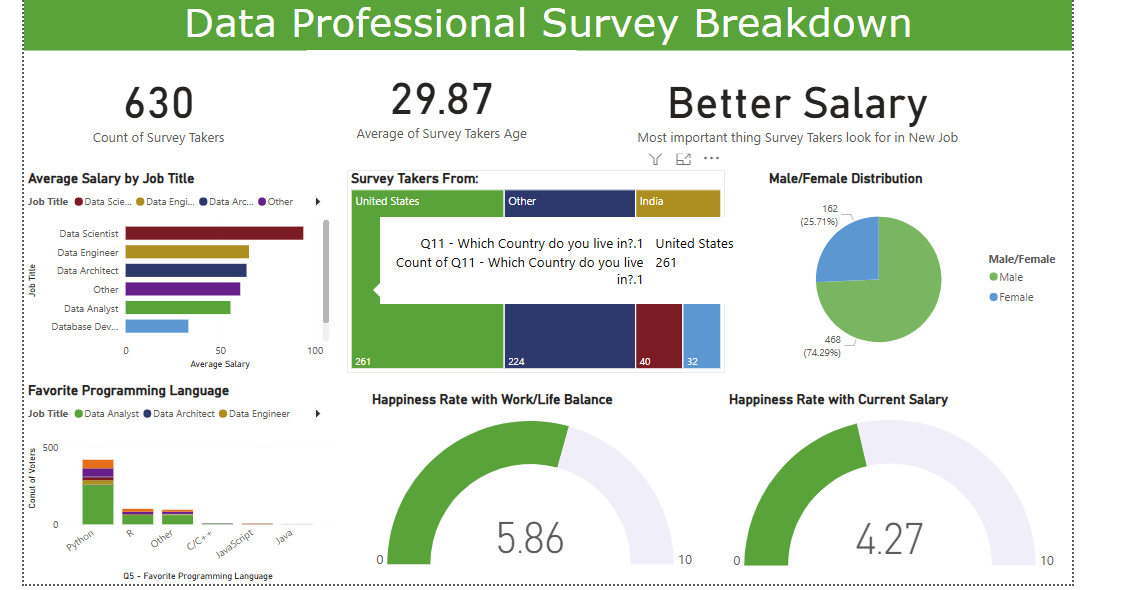

The page's visual inventory and layout, read from the dashboard file:
{"tool":"powerbi","page":{"name":"Survey Result Analysis","canvas":[1280,720],"ordinal":0},"visuals":[{"type":"textbox","box":[0,0,1280,69],"z":0},{"type":"card","fields":{"Values":["Count(Data Professional Survey.Unique ID)"]},"box":[0,72.7,328.6,126],"z":1000},{"type":"card","fields":{"Values":["Avg(Data Professional Survey.Q10 - Current Age)"]},"box":[345.5,68.8,328.6,126],"z":2000},{"type":"barChart","title":"Average Salary by Job Title","fields":{"Series":["Data Professional Survey.Q1 - Which Title Best Fits your Current Role?"],"Y":["Avg(Data Professional Survey.Average Salary)"],"Category":["Data Professional Survey.Q1 - Which Title Best Fits your Current Role?"]},"box":[0,214.9,377.6,247.8],"z":3000},{"type":"columnChart","title":"Favorite Programming Language","fields":{"Category":["Data Professional Survey.Q5 - Favorite Programming Language"],"Y":["CountNonNull(Data Professional Survey.Q5 - Favorite Programming Language)"],"Series":["Data Professional Survey.Q1 - Which Title Best Fits your Current Role?"]},"box":[0,473.1,377.6,247.8],"z":4000},{"type":"treemap","title":"Survey Takers From:","fields":{"Group":["Data Professional Survey.Q11 - Which Country do you live in?.1"],"Values":["CountNonNull(Data Professional Survey.Q11 - Which Country do you live in?.1)"]},"box":[394,214.9,461.2,247.8],"z":5000},{"type":"gauge","title":"Happiness Rate with Work/Life Balance","fields":{"Y":["Avg(Data Professional Survey.Q6 - How Happy are you in your Current Position with the following? (Coworkers))"],"MinValue":["Min(Data Professional Survey.Q6 - How Happy are you in your Current Position with the following? (Coworkers))1"],"MaxValue":["Max(Data Professional Survey.Q6 - How Happy are you in your Current Position with the following? (Coworkers))2"]},"box":[419.4,485.1,406,234.3],"z":6000},{"type":"pieChart","title":"Male/Female Distribution","fields":{"Y":["CountNonNull(Data Professional Survey.Q9 - Male/Female?)"],"Category":["Data Professional Survey.Q9 - Male/Female?"]},"box":[903.9,214.3,376.6,248.1],"z":7000},{"type":"gauge","title":"Happiness Rate with Current Salary","fields":{"Y":["Avg(Data Professional Survey.Q6 - How Happy are you in your Current Position with the following? (Salary))"],"MinValue":["Min(Data Professional Survey.Q6 - How Happy are you in your Current Position with the following? (Salary))"],"MaxValue":["Max(Data Professional Survey.Q6 - How Happy are you in your Current Position with the following? (Salary))"]},"box":[855.2,485.1,411.9,234.3],"z":8000},{"type":"card","fields":{"Values":["Min(Data Professional Survey.Q8 - If you were to look for a new job today, what would be the most important thing to you"]},"box":[711.7,76.6,466.2,118.2],"z":9000}]}

Visuals, with their boxes on the page's 1280x720 design canvas (x1, y1, x2, y2). These are canvas units, not pixel positions in the 1124x590 screenshot, which may show the page scaled, cropped or inside an application window:
textbox: 0, 0, 1280, 69
card - Count(Data Professional Survey.Unique ID): 0, 73, 329, 199
card - Avg(Data Professional Survey.Q10 - Current Age): 346, 69, 674, 195
"Average Salary by Job Title" barChart: 0, 215, 378, 463
"Favorite Programming Language" columnChart: 0, 473, 378, 721
"Survey Takers From:" treemap: 394, 215, 855, 463
"Happiness Rate with Work/Life Balance" gauge: 419, 485, 825, 719
"Male/Female Distribution" pieChart: 904, 214, 1280, 462
"Happiness Rate with Current Salary" gauge: 855, 485, 1267, 719
card - Min(Data Professional Survey.Q8 - If you were to look for a new job today, what would be the most important thing to you: 712, 77, 1178, 195
